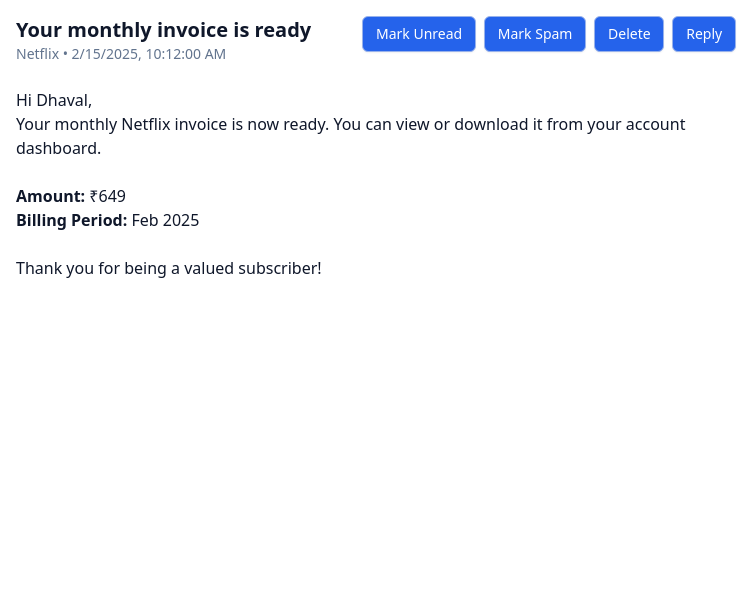
Test: EmailDetailClient › opens reply editor when clicking reply
Click the button "Reply": (704, 34) [672, 16, 736, 52]
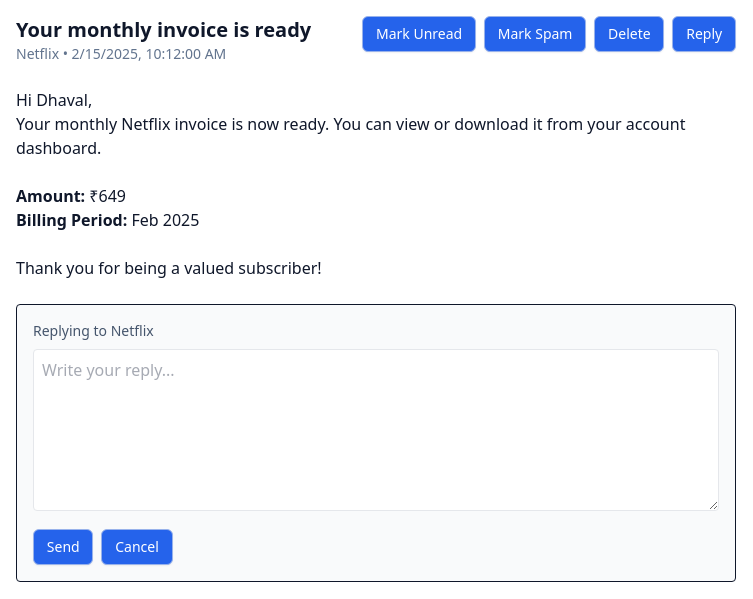
Now the text box named "reply-body" is shown, box [33, 349, 719, 511]
Now the button with aria-label "cancel-reply" is shown, box [102, 529, 173, 565]
